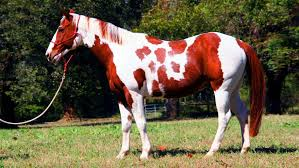horse: (44, 10, 263, 156)
